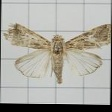Spodoptera litura: (1, 23, 110, 85)
